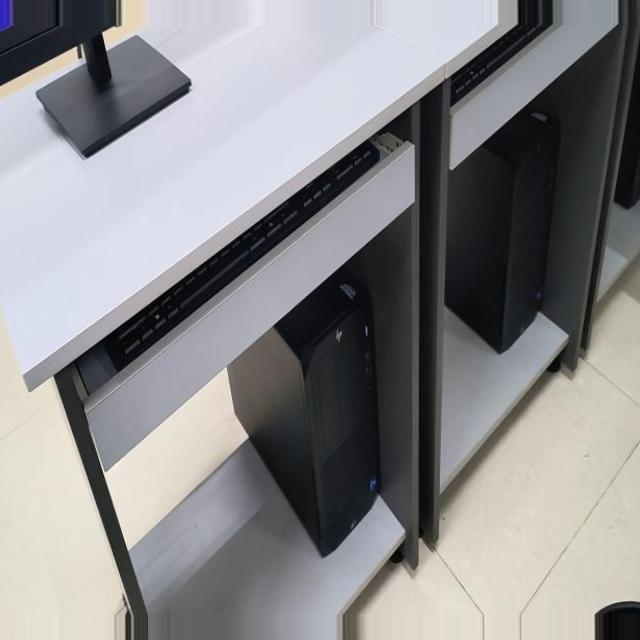Cpu: (231, 271, 377, 574), (442, 92, 554, 356)
Keyboard: (106, 126, 380, 372), (449, 0, 547, 88)
Monitor: (0, 0, 123, 71)
